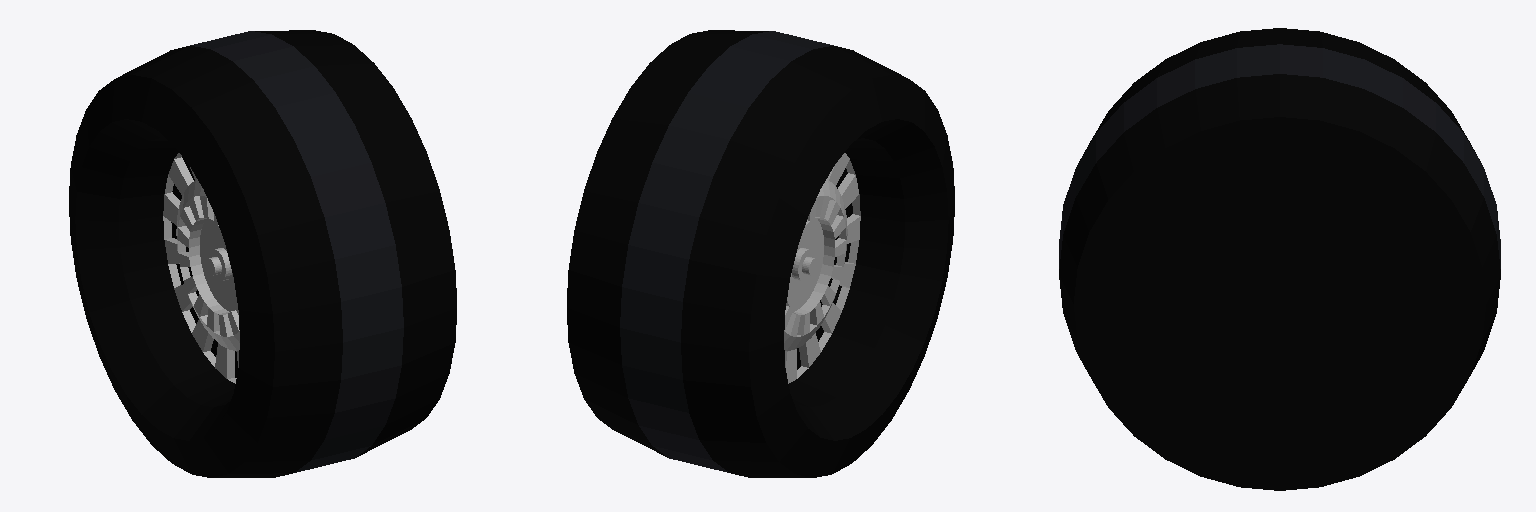
File: WheelOffroad_01.obj
3 views of the same model, side by side, from view 1: azimuth 30°, elevation 25°; view 2: azimuth 150°, elevation 25°; view 3: azimuth 270°, elevation 25° (orthographic).
Visible parts, largest first — view 1: f_wheel.001; view 2: f_wheel.001; view 3: f_wheel.001.
Part boxes in pixels (left/top/right/bottom): f_wheel.001: left=69, top=30, right=456, bottom=477; f_wheel.001: left=567, top=30, right=954, bottom=477; f_wheel.001: left=1059, top=28, right=1500, bottom=490.
Size of the model in its own units: 0.5821 by 1.13 by 1.13.